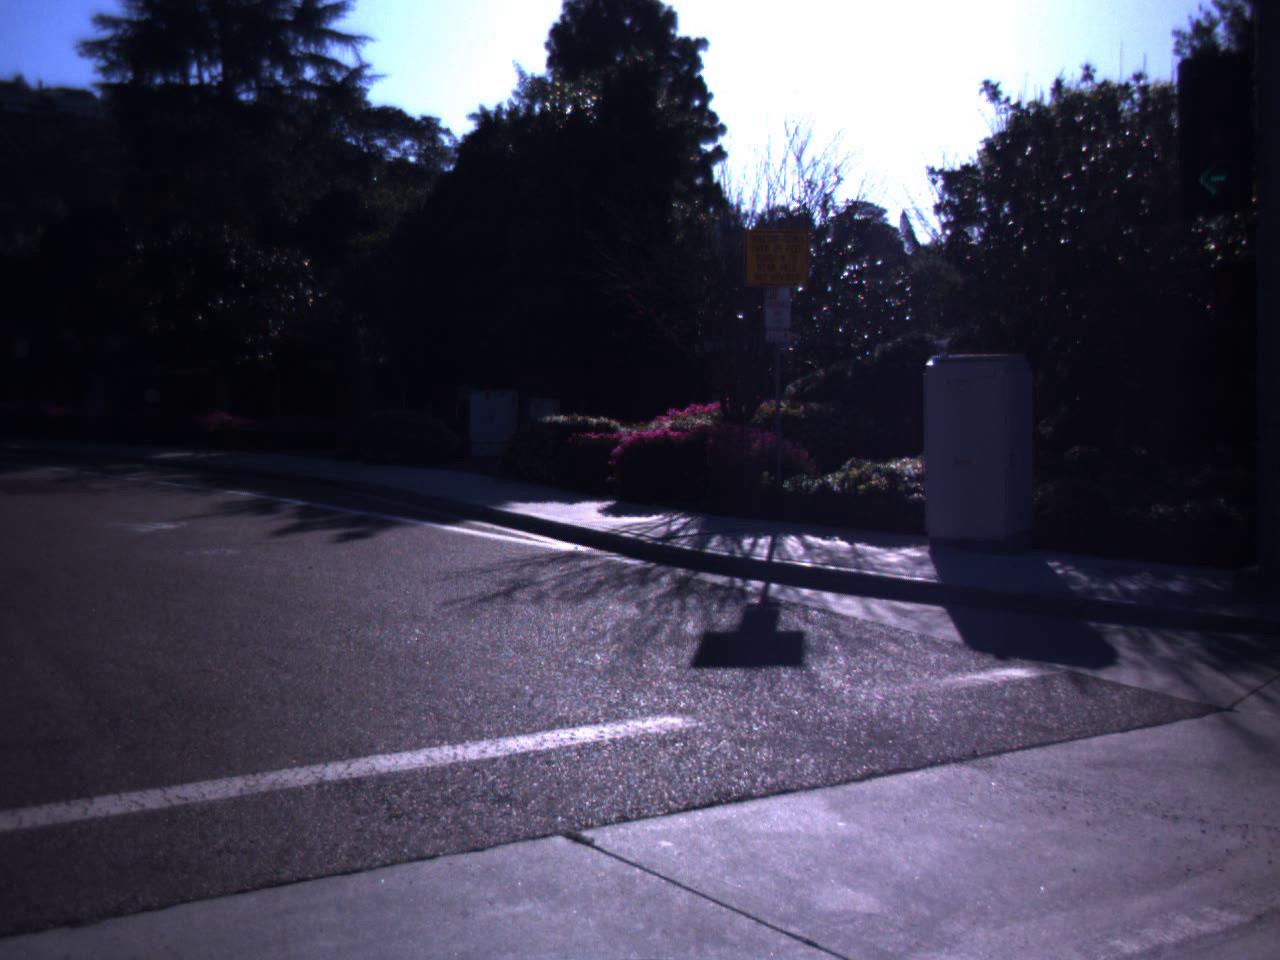go: (1160, 28, 1268, 218)
